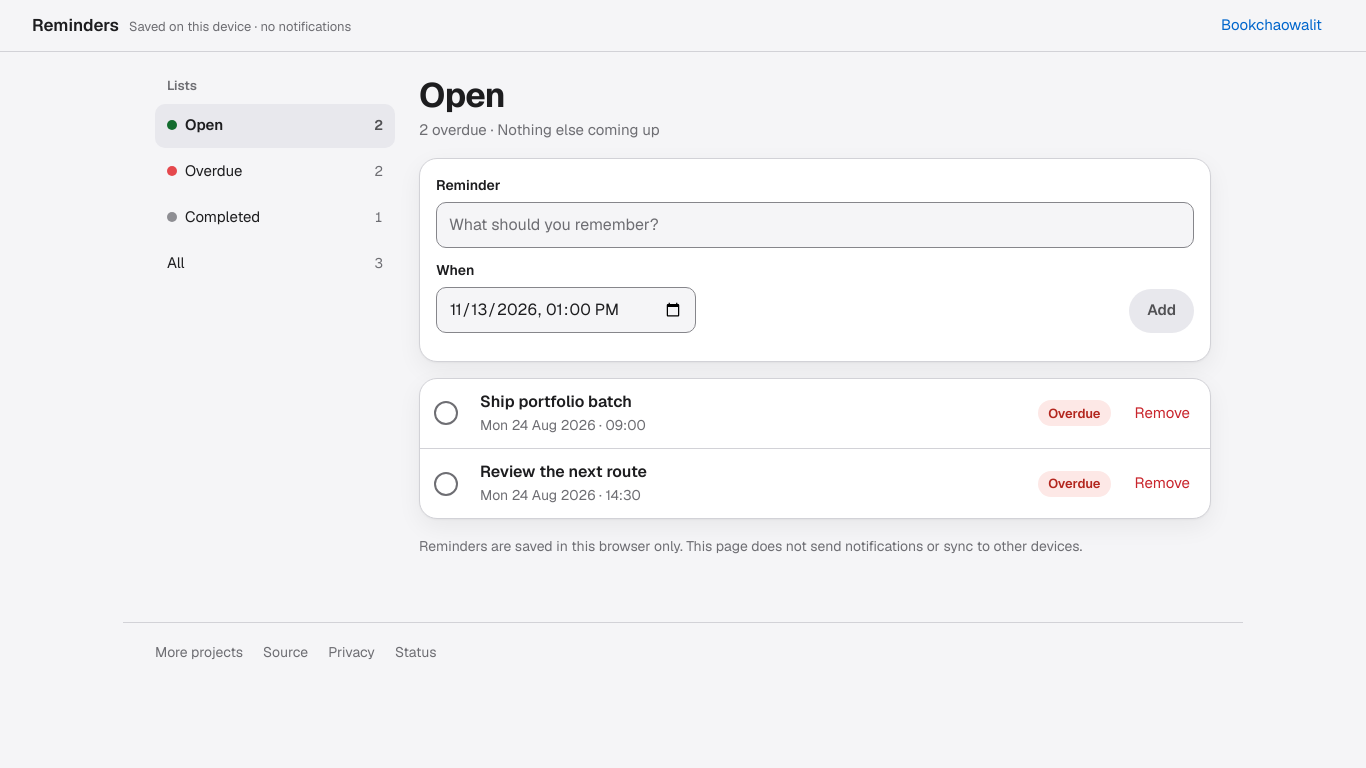
Test: remove and undo › Escape dismisses without restoring; a mouse removal times out after six seconds
The width and height of the screenshot is (1366, 768).
Later steps or results of the test are not shown.
Click the button with aria-label "Remove Ship portfolio batch".
click(1162, 413)  # box [1123,391,1202,435]
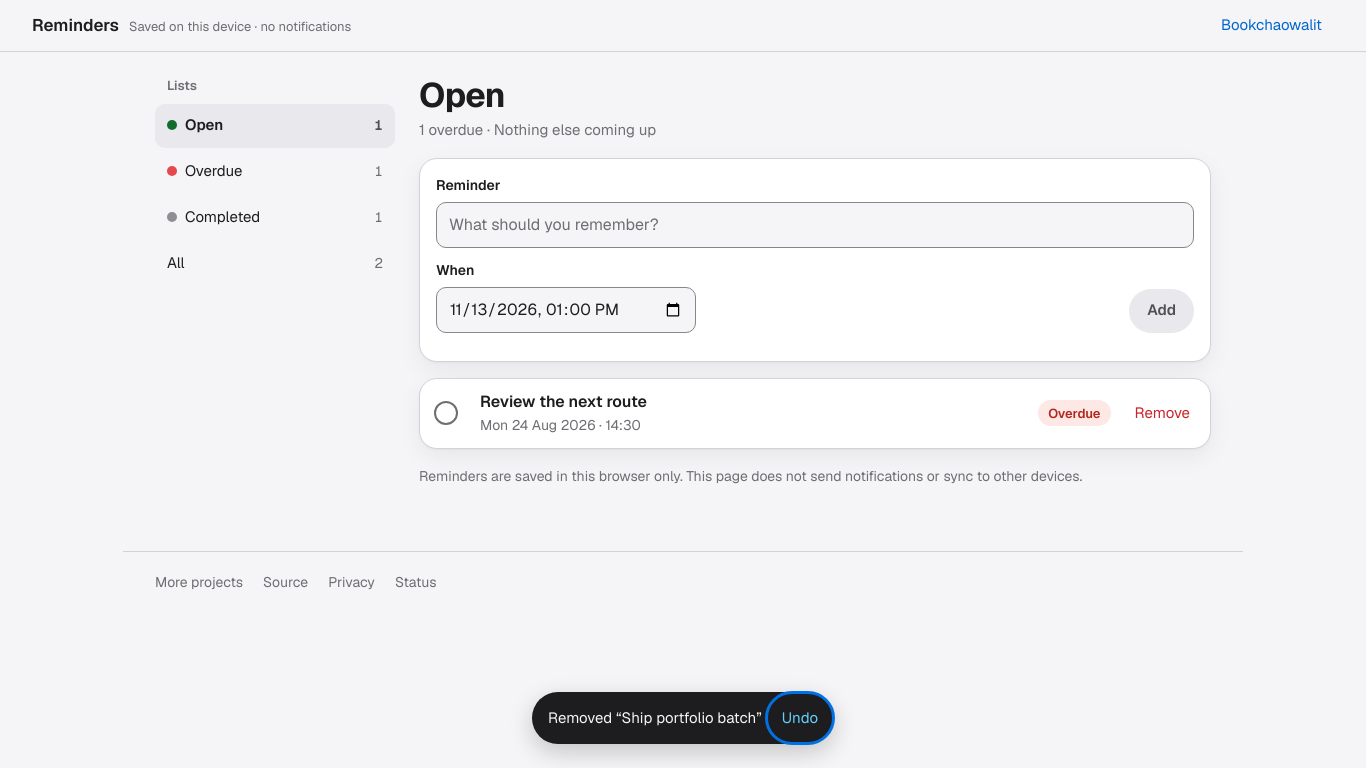
Press Escape in the element with class "as-toast", box [532,692,834,744]
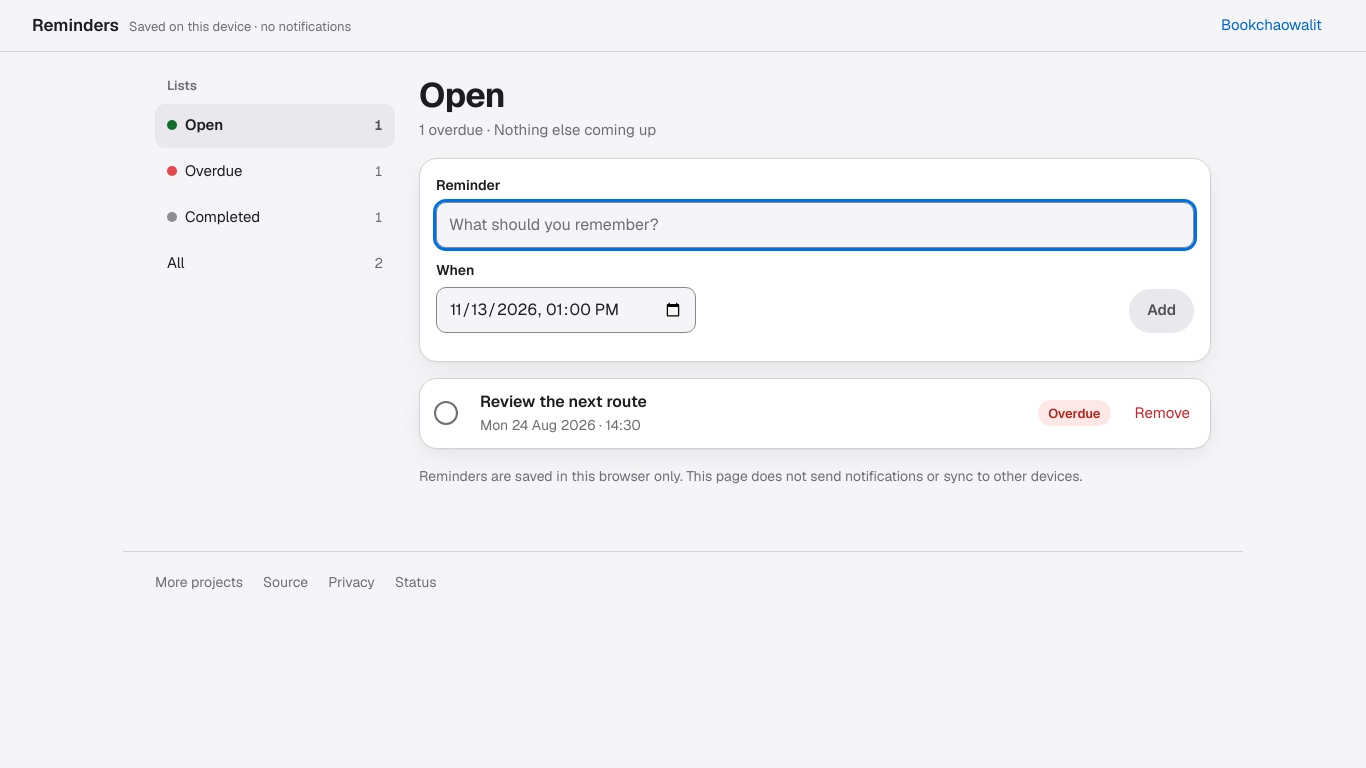
Expected: the element with class "as-toast" is gone
